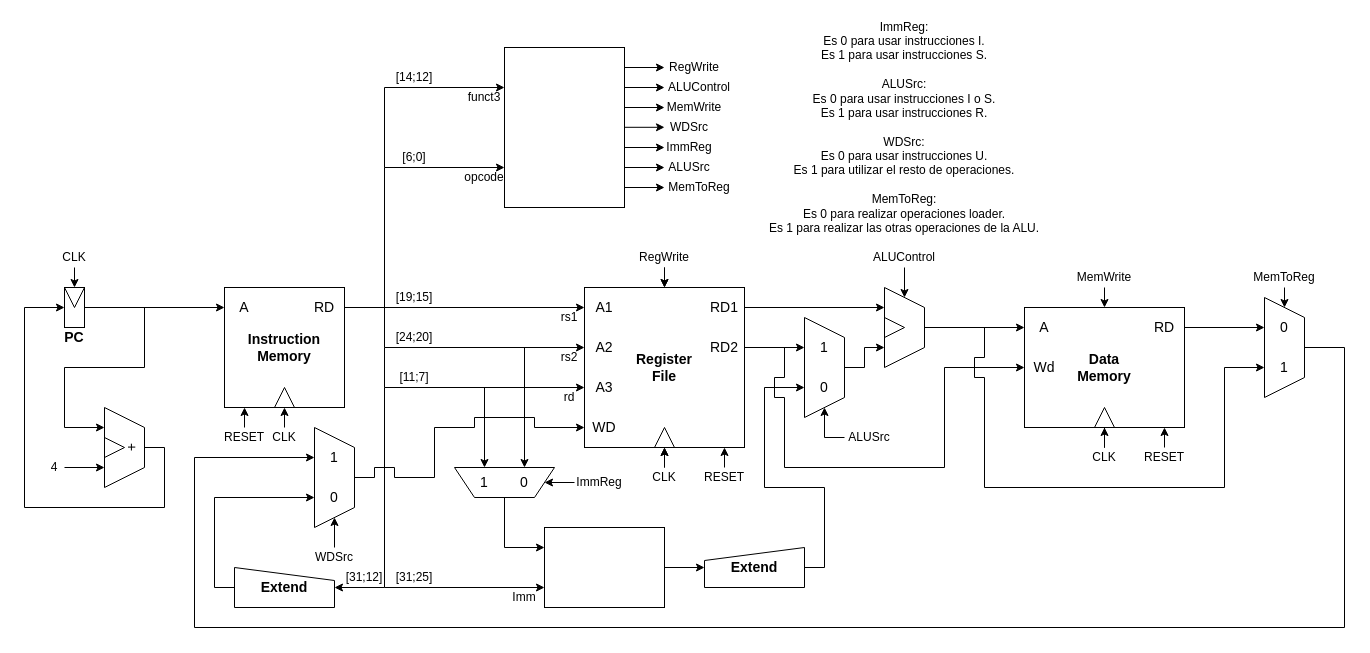
This 1370x653 diagram has some shape labels left out. The shapes that lost their labels are listed below. From the top down, each one's centre as x and y in pixels, then its label:
the point at 564,127: Control Unit
the point at 604,567: Concatenar
